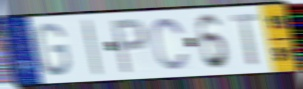6: (196, 12, 229, 72)
C: (151, 16, 190, 72)
G: (34, 22, 72, 78)
I: (81, 17, 104, 78)
P: (110, 17, 150, 76)
T: (229, 12, 260, 68)
